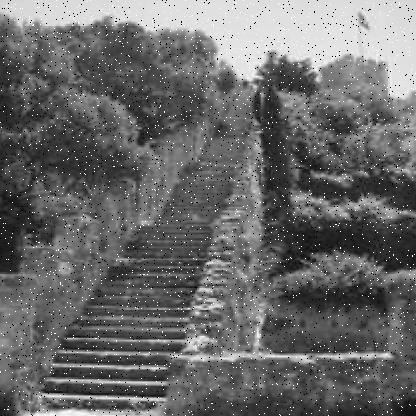stair_up: (38, 234, 202, 416)
